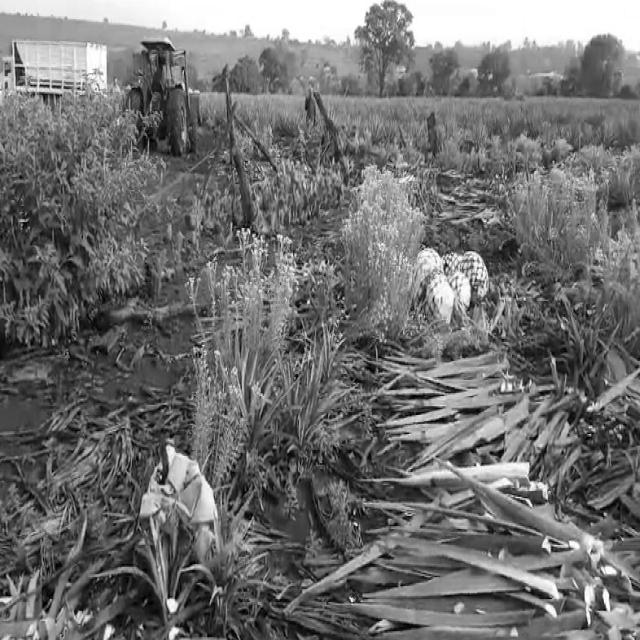agave: (459, 249, 489, 307), (428, 273, 455, 327), (414, 247, 444, 295), (448, 270, 472, 318), (442, 245, 466, 279)
